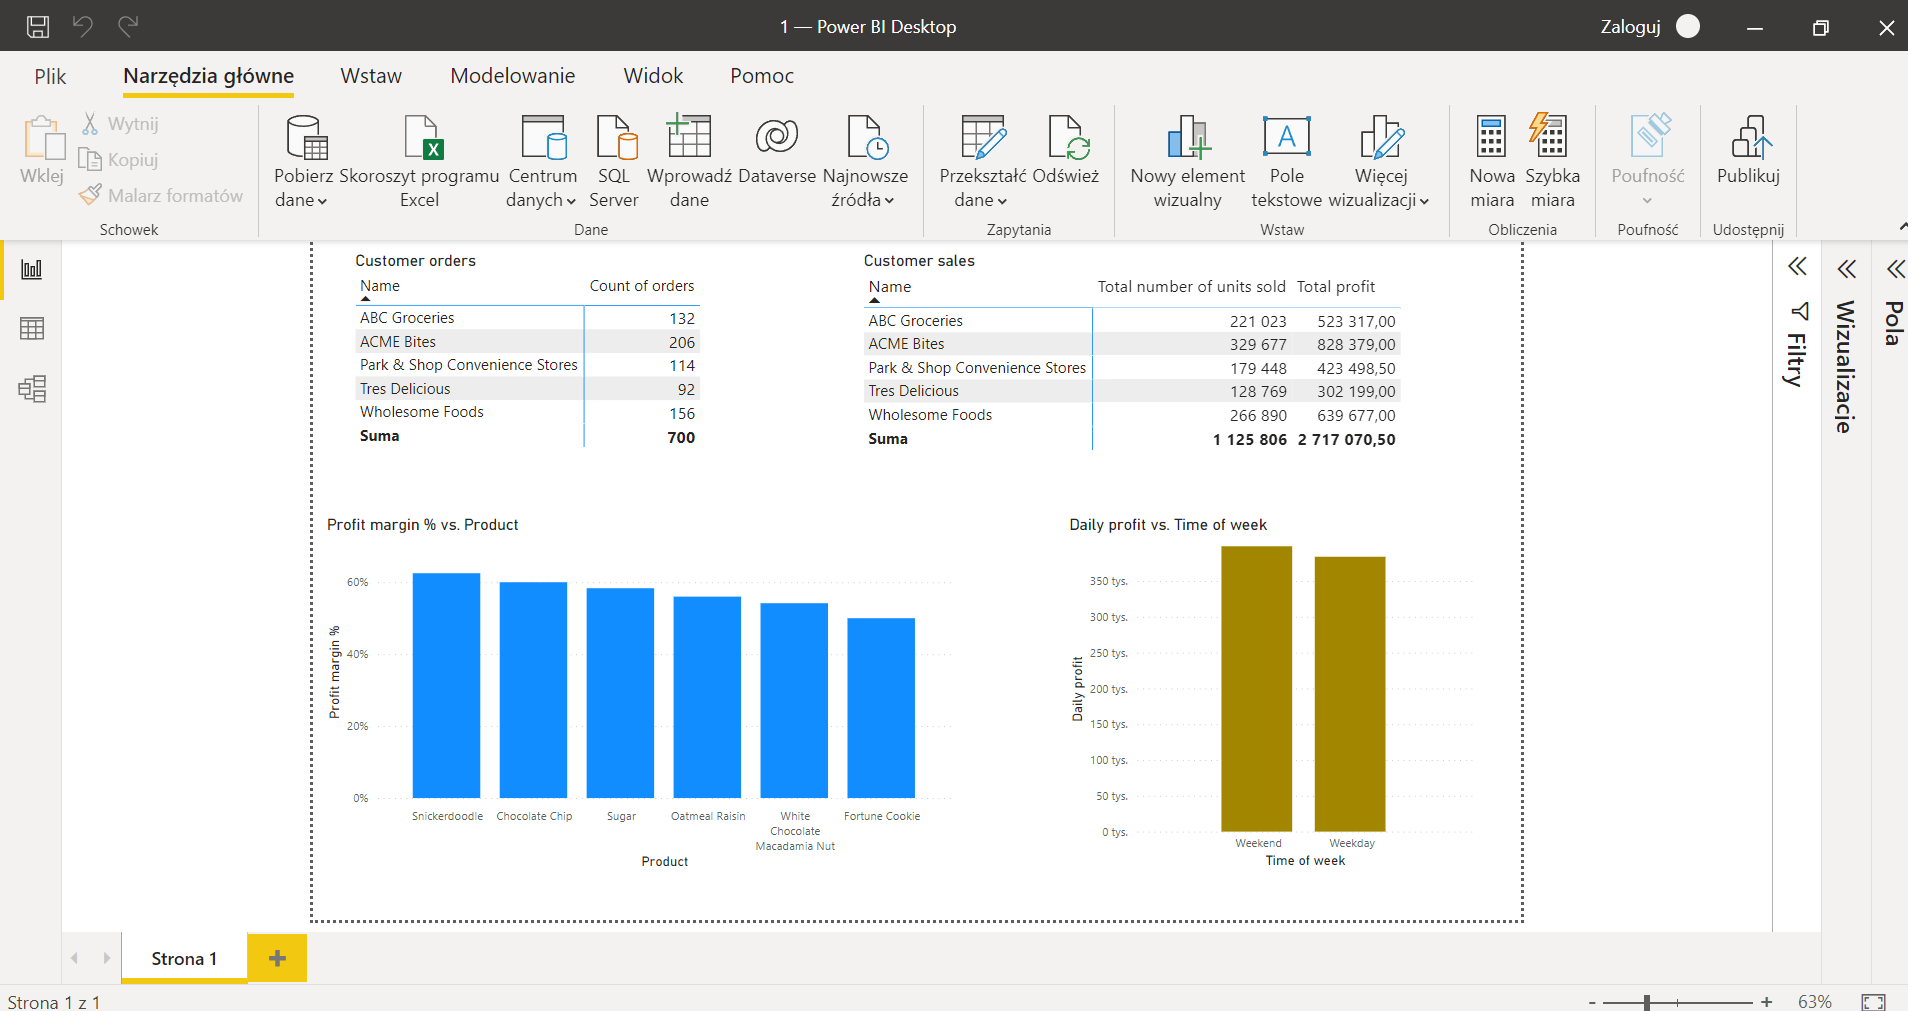

What the dashboard file says about the page in this screenshot:
{"tool":"powerbi","page":{"name":"Strona 1","canvas":[1280,720],"ordinal":0},"visuals":[{"type":"pivotTable","title":"Customer sales","fields":{"Values":["Orders.Total number of units sold","Orders.Total profit"],"Rows":["Customers.Name"]},"box":[578.2,11.5,594.7,238.9],"z":0},{"type":"pivotTable","title":"Customer orders","fields":{"Values":["Orders.Count of orders"],"Rows":["Customers.Name"]},"box":[39.5,11.5,464.6,252],"z":1000},{"type":"clusteredColumnChart","title":"Profit margin % vs. Product","fields":{"Y":["Orders.Profit margin %"],"Category":["Products.Product"]},"box":[9.9,291.6,672.1,380.5],"z":2000},{"type":"clusteredColumnChart","title":"Daily profit vs. Time of week","fields":{"Category":["Orders.Weekend?"],"Y":["Orders.Profit average"]},"box":[795.7,291.6,438.2,378.9],"z":3000}]}

Visuals, with their boxes on the page's 1280x720 design canvas (x1, y1, x2, y2). These are canvas units, not pixel positions in the 1908x1011 screenshot, which may show the page scaled, cropped or inside an application window:
"Customer sales" pivotTable: x1=578 y1=12 x2=1173 y2=250
"Customer orders" pivotTable: x1=40 y1=12 x2=504 y2=264
"Profit margin % vs. Product" clusteredColumnChart: x1=10 y1=292 x2=682 y2=672
"Daily profit vs. Time of week" clusteredColumnChart: x1=796 y1=292 x2=1234 y2=670
